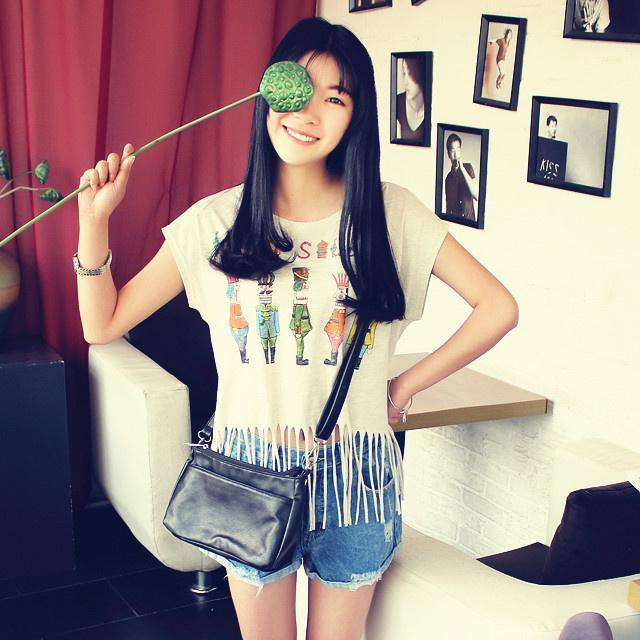short sleeve top: (160, 181, 449, 529)
shorts: (207, 430, 403, 575)
